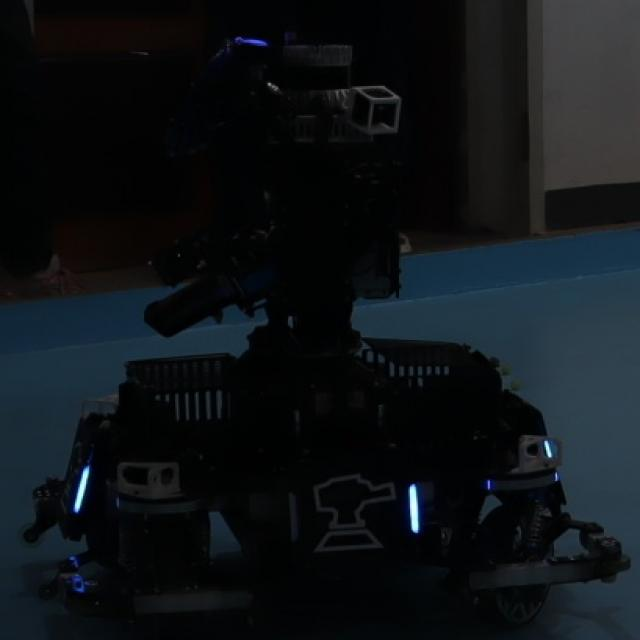Bs: (278, 468, 432, 558), (62, 435, 96, 521)
